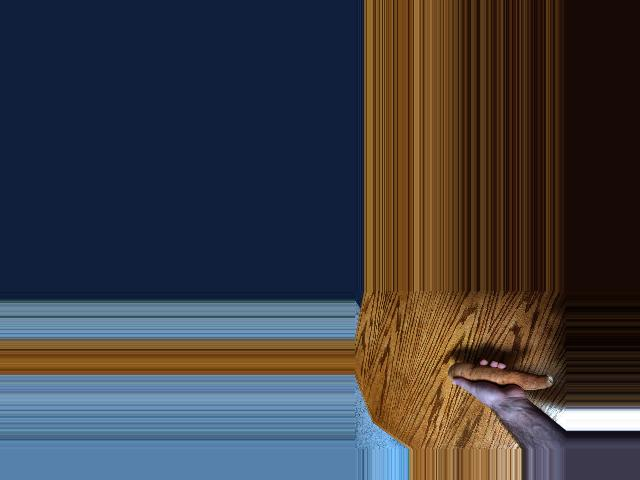sweet_potato: (450, 358, 552, 393)
